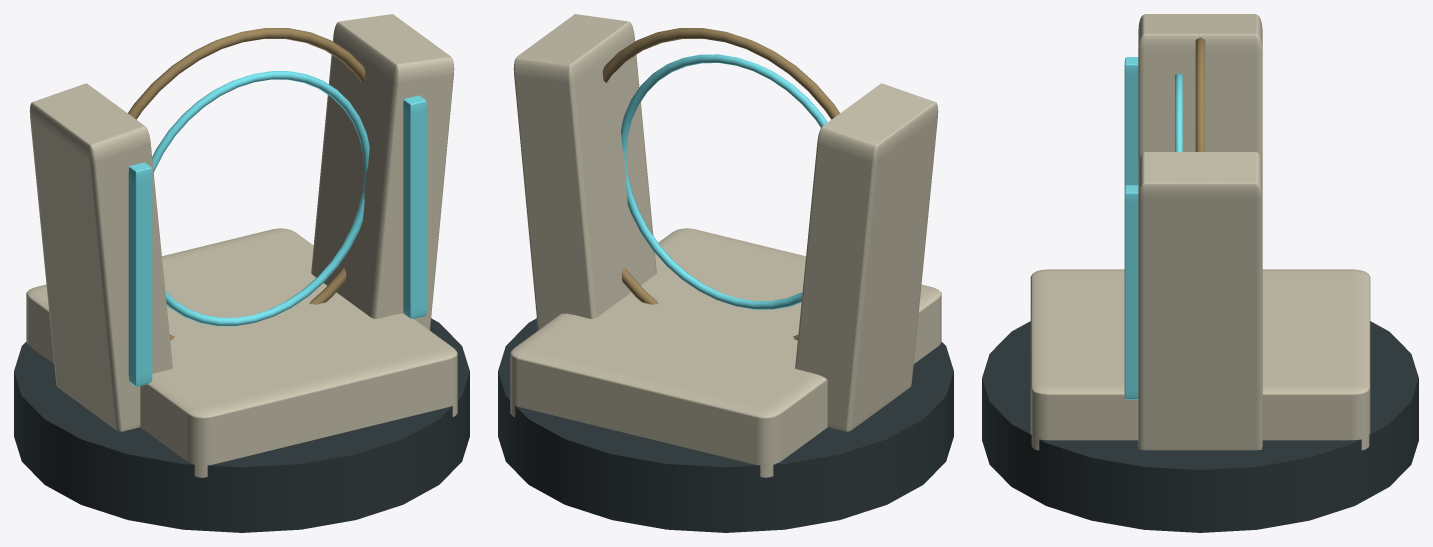
Rendered from warden-machine-drop-gate-v1.glb.
3 renders of one model, left to right at view 1: azimuth 30°, elevation 25°; view 2: azimuth 150°, elevation 25°; view 3: azimuth 270°, elevation 25°, orthographic. The views are drawn at different scales.
Parts seen in each view (by area): view 1: Hull paint / Plate (×3), Dark metal / Cylinder, Optics / Plate (×2), Optics / Ring, Brass / Ring; view 2: Hull paint / Plate (×3), Dark metal / Cylinder, Optics / Ring, Brass / Ring; view 3: Hull paint / Plate (×3), Dark metal / Cylinder, Optics / Plate (×2), Brass / Ring, Optics / Ring.
Boxes of the visible parts, <box> form: Hull paint / Plate (×3): <box>26,14,457,477</box>; Dark metal / Cylinder: <box>14,318,469,532</box>; Optics / Plate (×2): <box>128,95,426,386</box>; Optics / Ring: <box>152,71,369,326</box>; Brass / Ring: <box>128,28,365,340</box>; Hull paint / Plate (×3): <box>510,14,941,477</box>; Dark metal / Cylinder: <box>498,318,953,532</box>; Optics / Ring: <box>621,54,827,309</box>; Brass / Ring: <box>602,28,839,340</box>; Hull paint / Plate (×3): <box>1030,14,1370,450</box>; Dark metal / Cylinder: <box>982,321,1418,532</box>; Optics / Plate (×2): <box>1124,57,1138,399</box>; Brass / Ring: <box>1195,37,1205,151</box>; Optics / Ring: <box>1175,73,1182,151</box>.
Bounding box in the file's own units: 0.2899 × 0.2841 × 0.2899.
